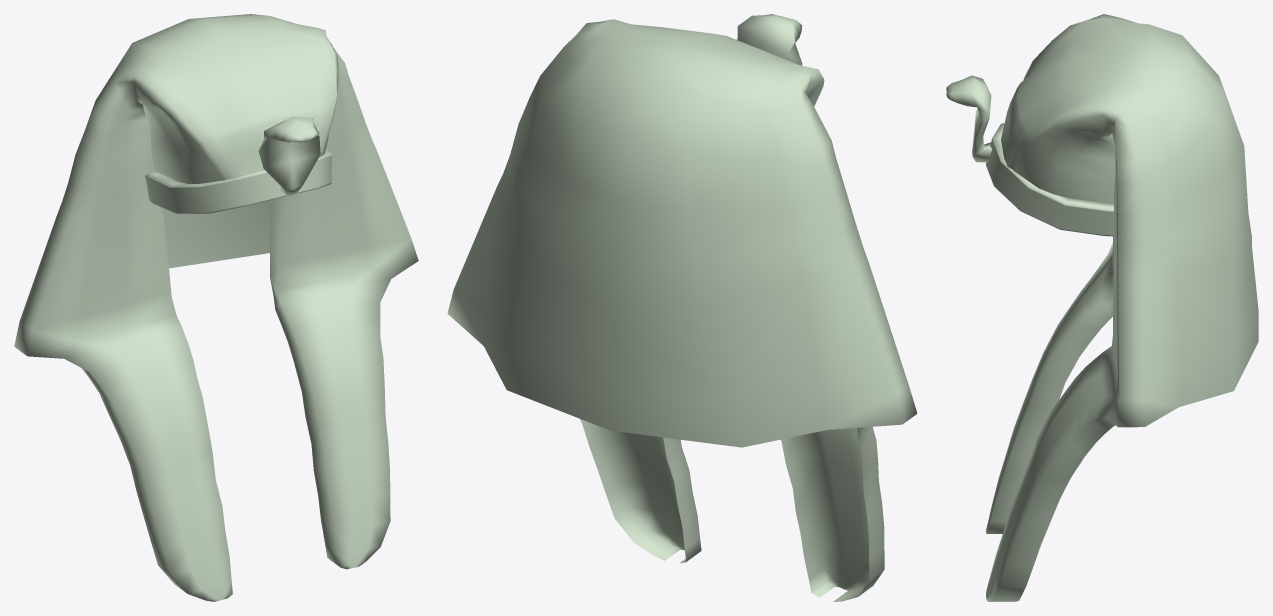
Rendered from egyptian_helmet_pharao.dae.
The picture shows the model from 3 angles, left to right: view 1: azimuth 30°, elevation 25°; view 2: azimuth 150°, elevation 25°; view 3: azimuth 270°, elevation 25°; orthographic projection. The views are drawn at different scales.
Parts seen in each view (by area): view 1: _main01_005; view 2: _main01_005; view 3: _main01_005.
Part boxes in pixels (bbox=[...]): _main01_005: bbox=[14, 14, 418, 601]; _main01_005: bbox=[447, 14, 917, 601]; _main01_005: bbox=[946, 14, 1258, 601].
Bounding box in the file's own units: 1.5 × 1.01 × 1.85.
